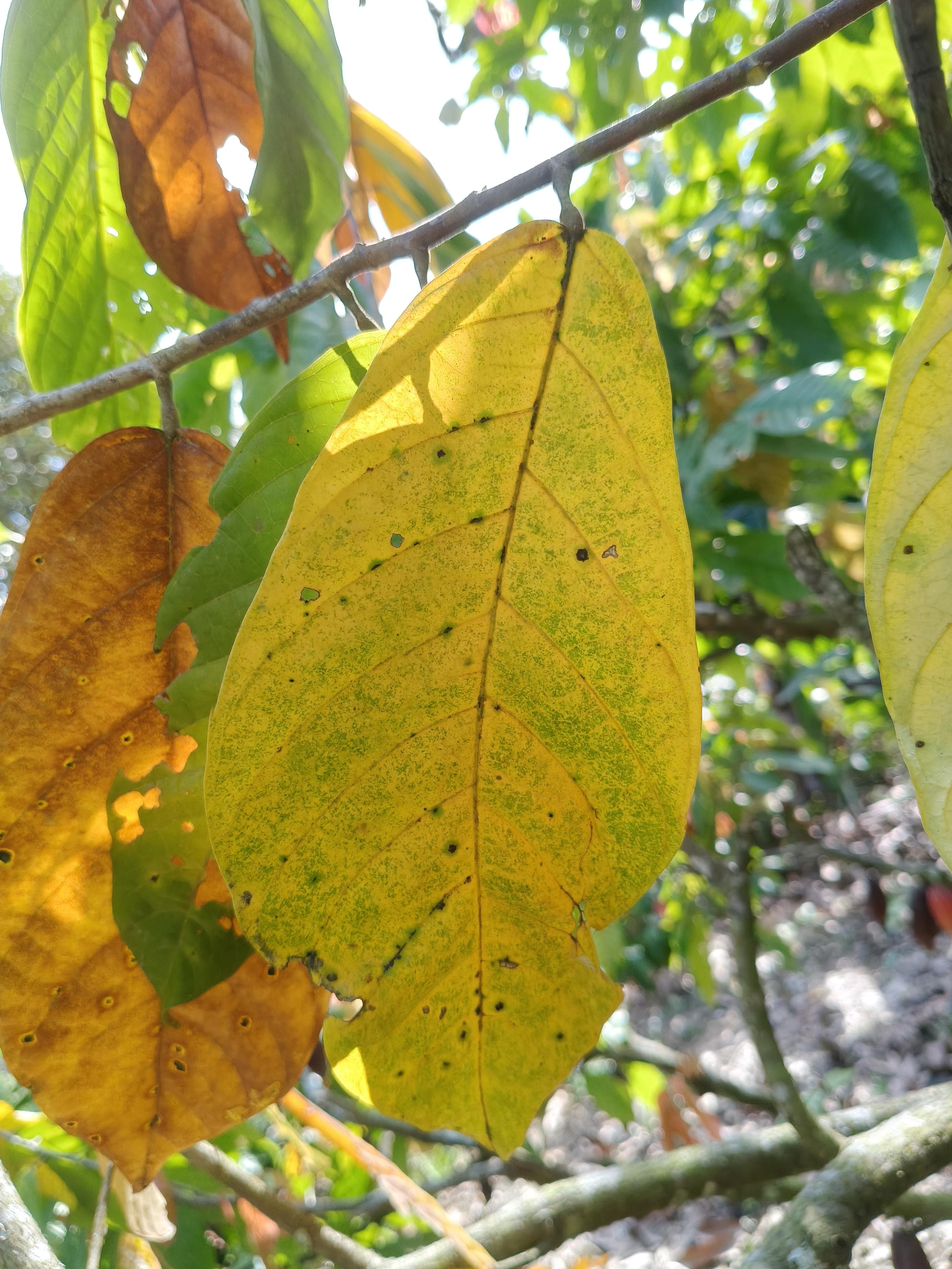deficiencia_potasio: (151, 193, 723, 1170)
